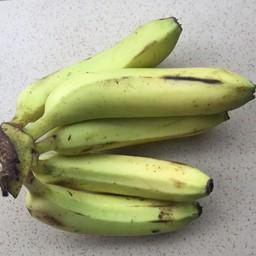Good_banana: (13, 17, 255, 122), (42, 65, 256, 122), (31, 177, 203, 243), (36, 155, 214, 201), (49, 110, 233, 150)
